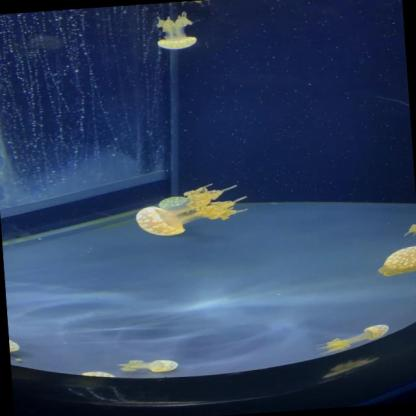jellyfish: (313, 322, 395, 355), (130, 203, 186, 238), (377, 244, 415, 275), (154, 35, 198, 51), (144, 356, 180, 373), (363, 322, 392, 338), (9, 336, 24, 354)
